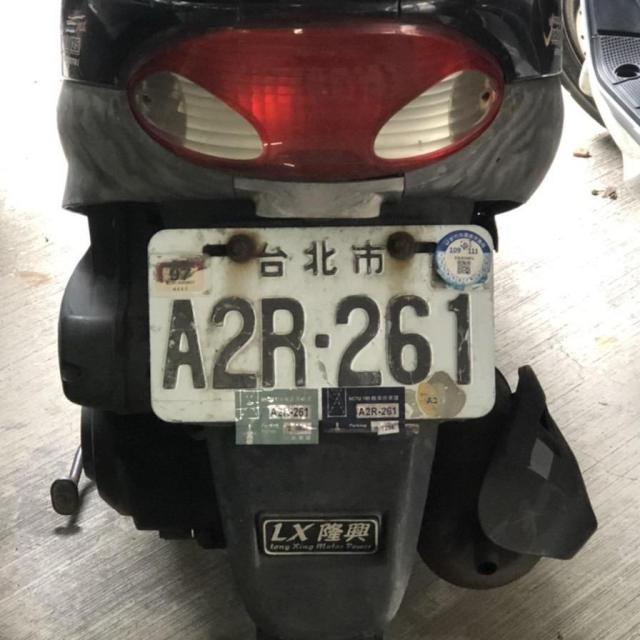W: (134, 208, 506, 411)
